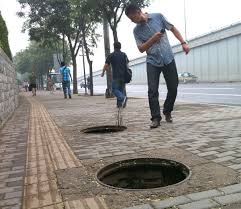Manhole-Open: (95, 153, 206, 197), (78, 116, 138, 139)
human: (125, 6, 196, 127), (103, 38, 139, 113), (57, 60, 78, 100)
